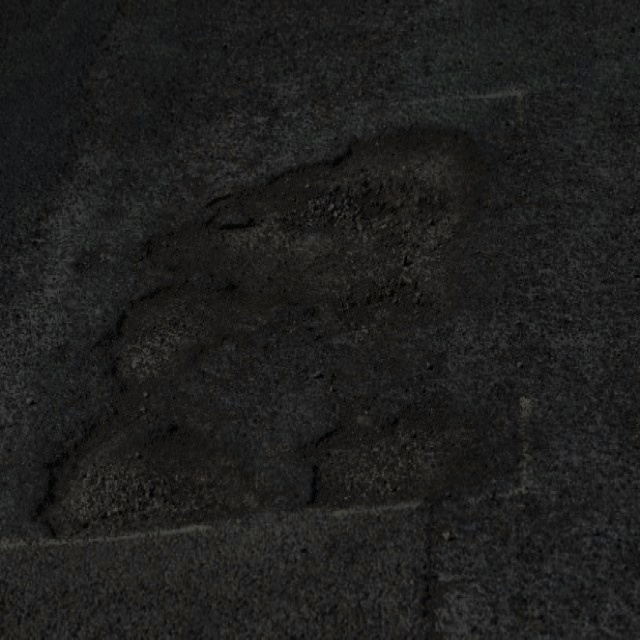Pothole: (142, 116, 493, 312), (28, 399, 258, 541), (294, 388, 478, 511), (86, 286, 246, 388)
